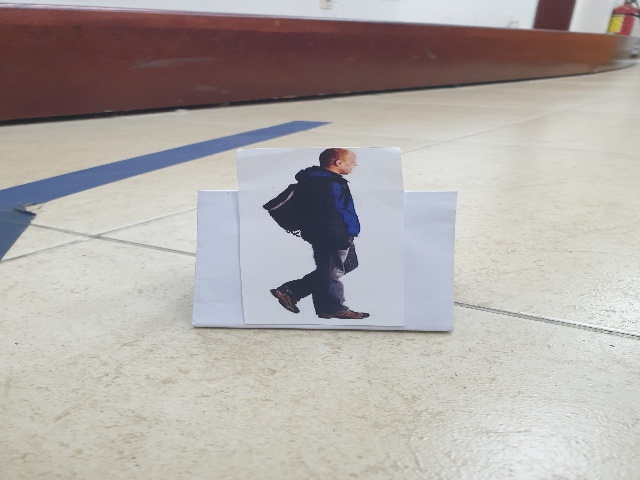Person: (252, 150, 375, 326)
